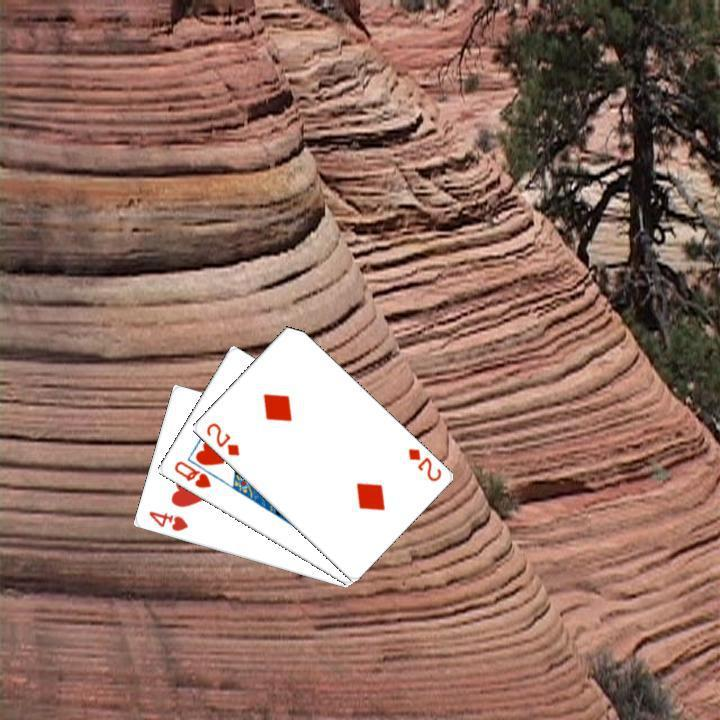2: (201, 418, 241, 458), (403, 444, 443, 484)
4: (144, 507, 190, 533)
Q: (169, 457, 213, 490)
